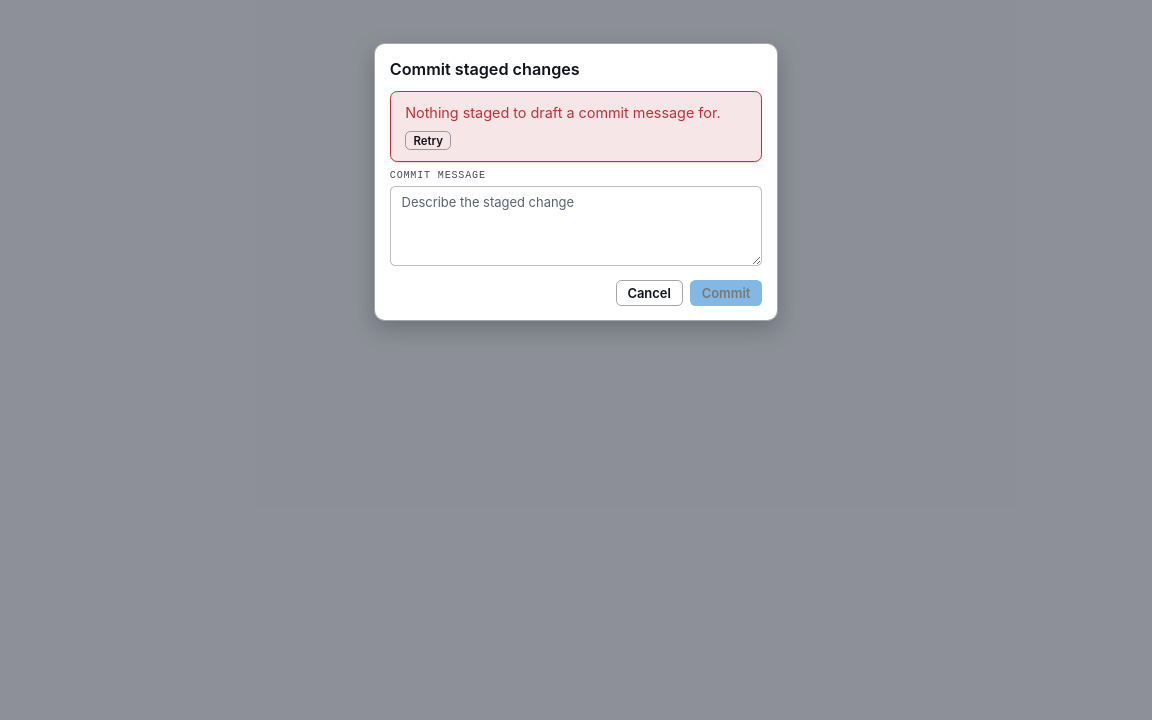
Test: CommitDialog (SPEC §7.6 commit workflow with AI-generated commit messages; issue #233) › the confirm button stays disabled while drafting, and while the message is empty
Check: the button with test id "commit-confirm" is disabled, box [690,280,762,306]
Type "Hand-typed message" into the text box with test id "commit-message-input" at (576, 226), box [390,186,762,266]
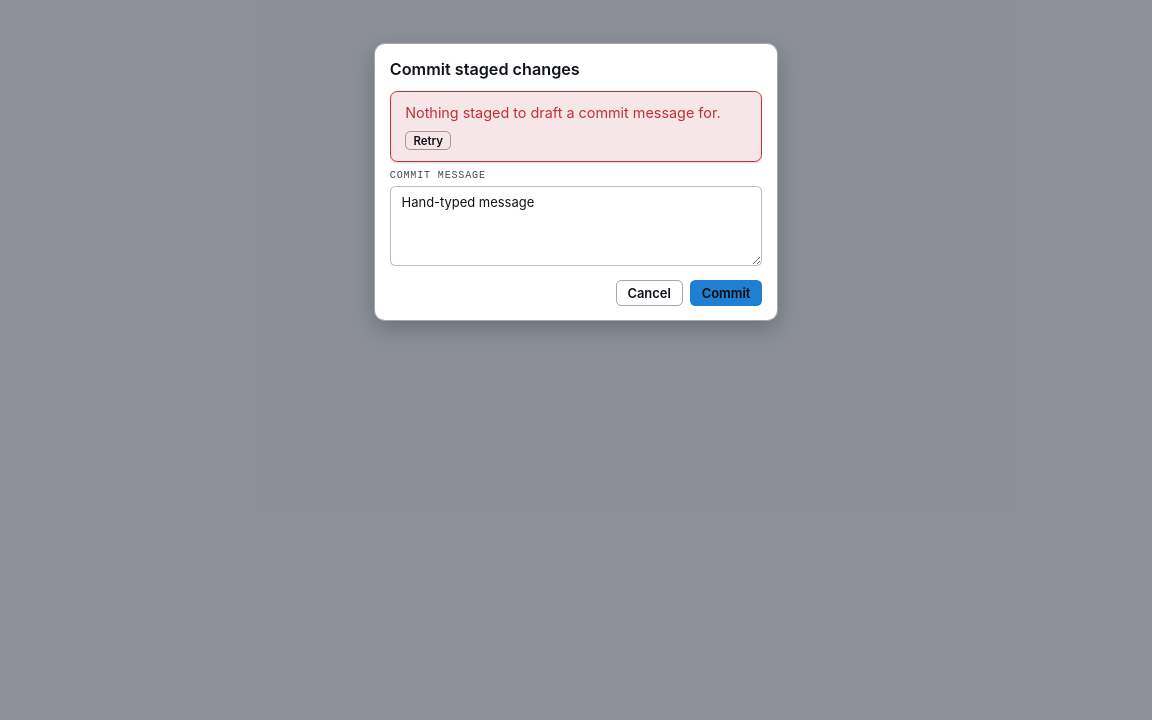
Check: the button with test id "commit-confirm" is enabled, box [690,280,762,306]
